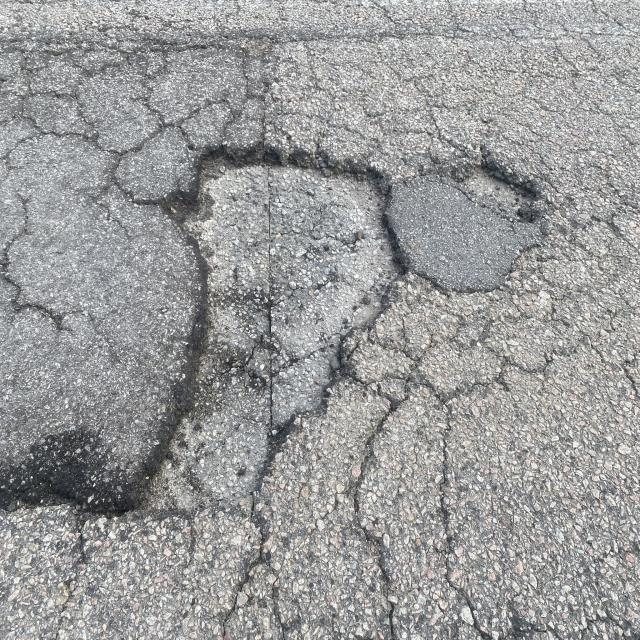pothole: (128, 96, 422, 578), (367, 42, 559, 331)
